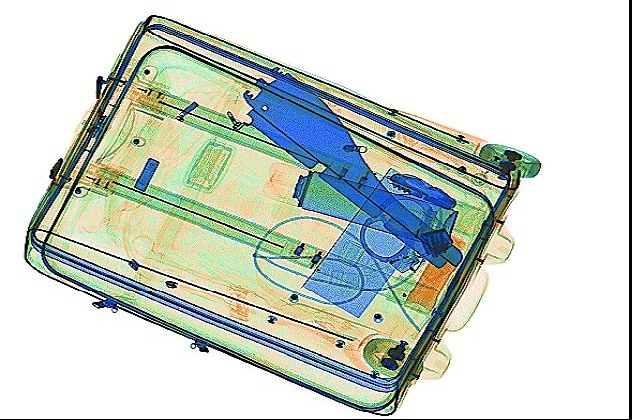handcuffs: (357, 193, 453, 274)
knife: (386, 169, 457, 210)
pressure: (260, 159, 459, 247)
